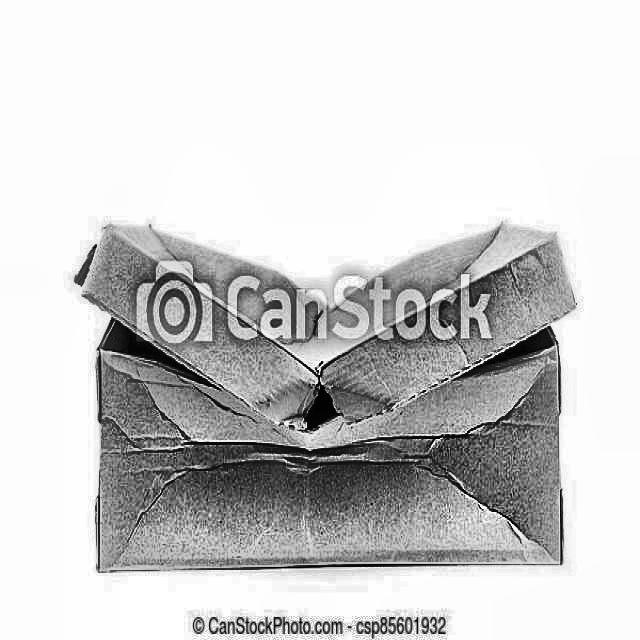box: (44, 180, 594, 588)
hole: (288, 361, 362, 439)
